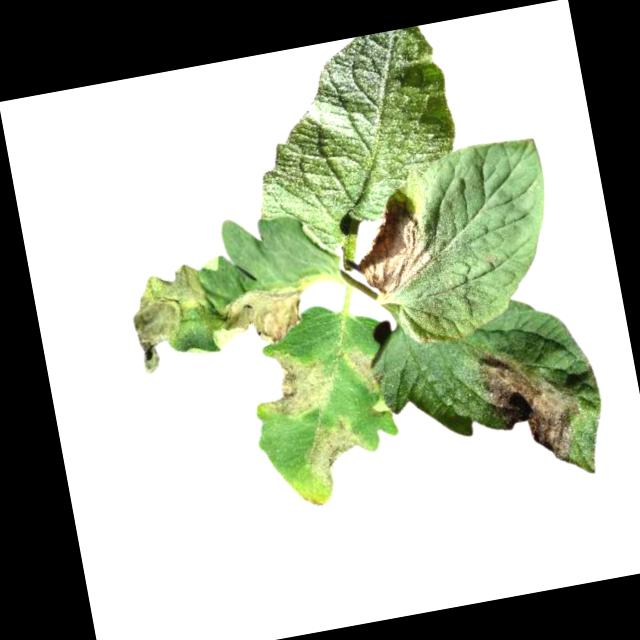Late_blight: (472, 334, 588, 477), (122, 260, 218, 375), (348, 192, 445, 303), (205, 275, 317, 355), (247, 340, 346, 426), (300, 410, 383, 493), (343, 341, 390, 396)
healthy: (234, 21, 474, 238)
